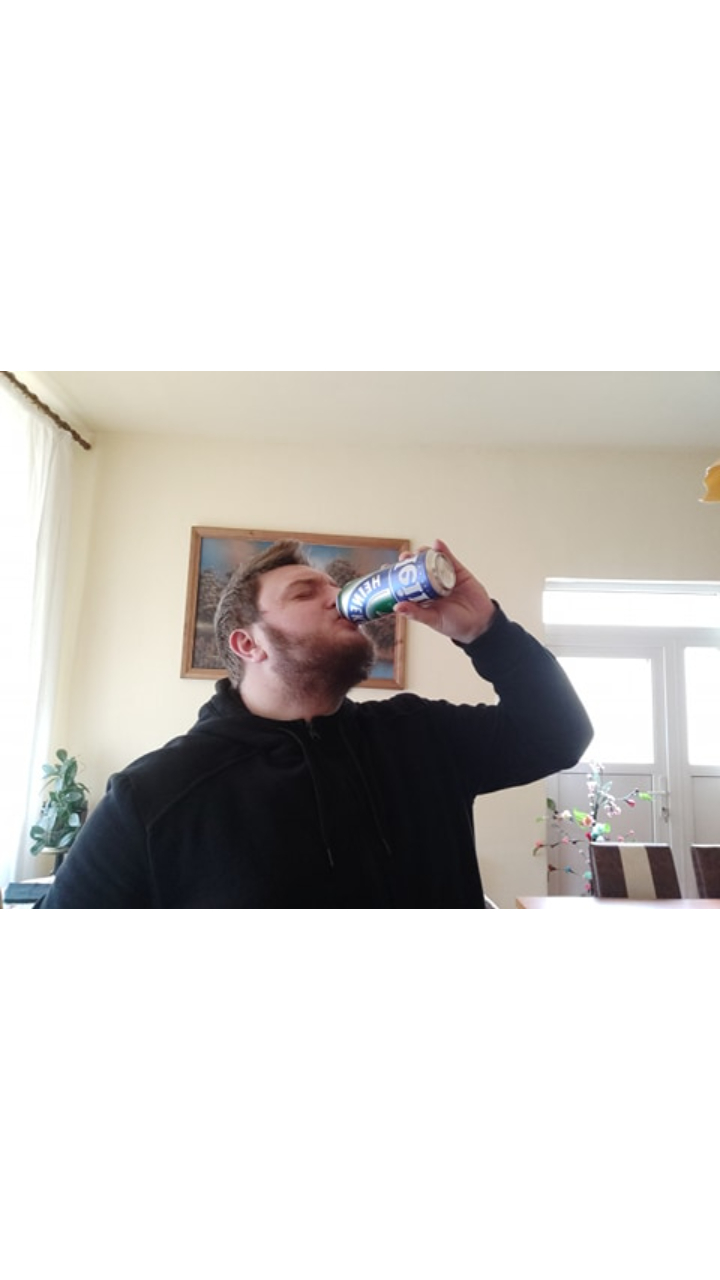Can: (337, 551, 457, 620)
